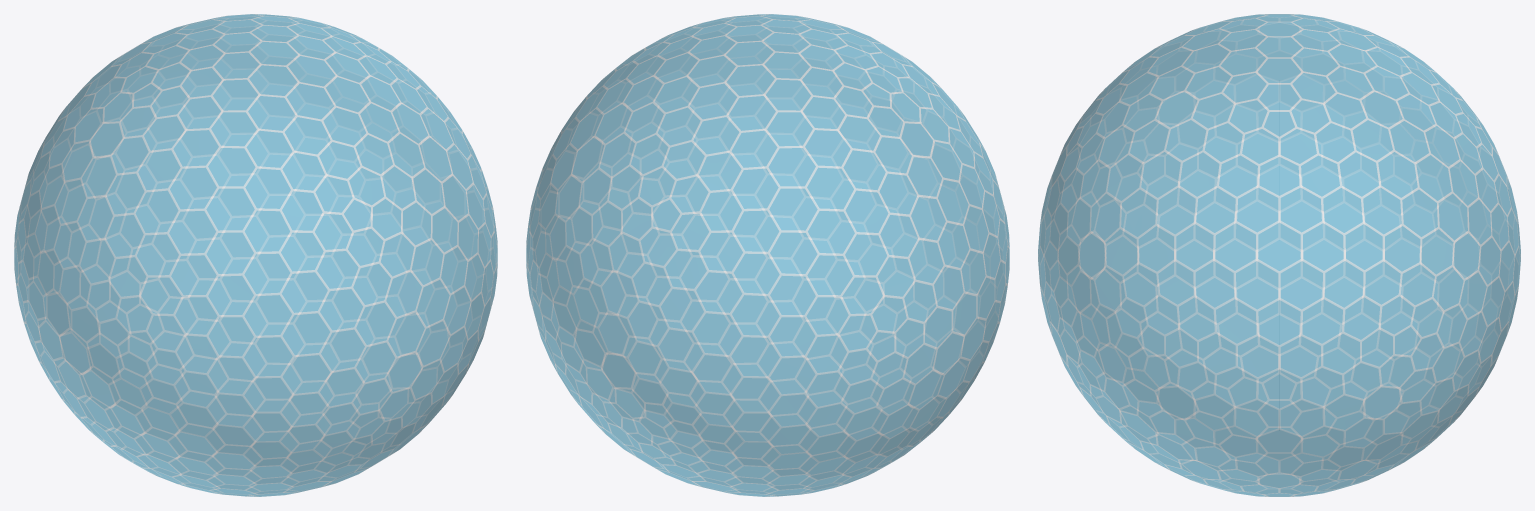
Rendered from EnergyShield.fbx.
The picture shows the model from 3 angles, left to right: view 1: azimuth 30°, elevation 25°; view 2: azimuth 150°, elevation 25°; view 3: azimuth 270°, elevation 25°; orthographic projection.
Parts seen in each view (by area): view 1: Sphere_6; view 2: Sphere_6; view 3: Sphere_6.
Part boxes in pixels (box(x1,y1,x2,y2)): Sphere_6: box(14, 14, 497, 496); Sphere_6: box(526, 14, 1009, 496); Sphere_6: box(1038, 14, 1520, 496).
Bounding box in the file's own units: 199 × 199 × 199.
